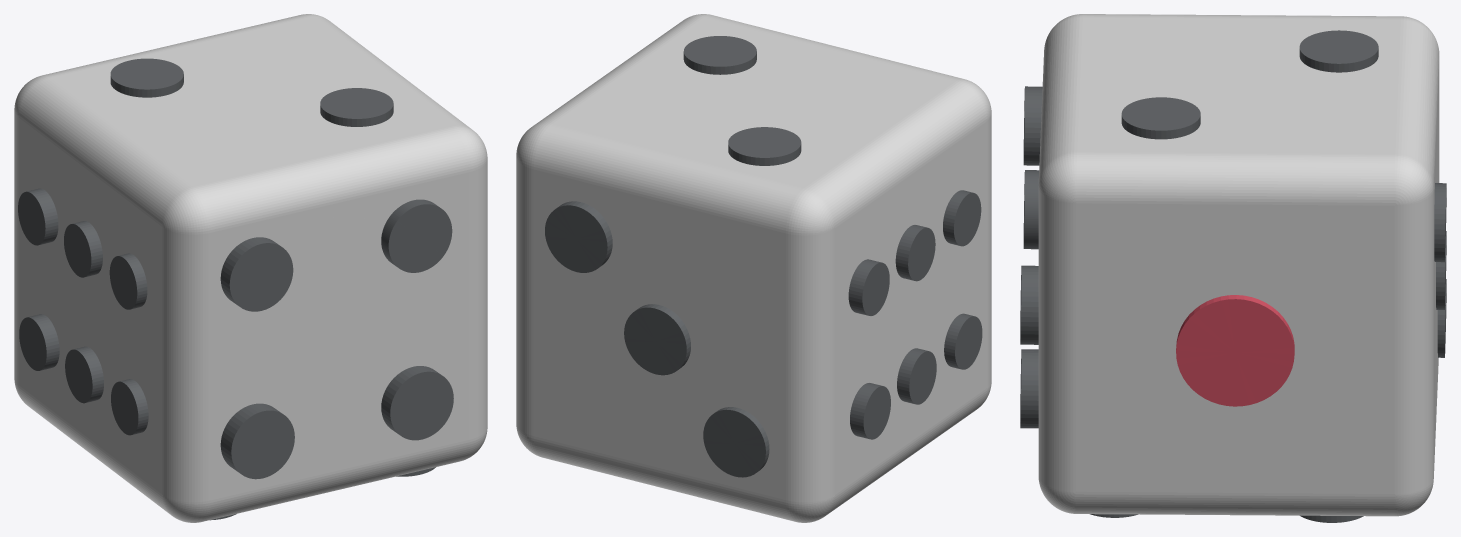
Rendered from dado.glb.
3 views of the same model, side by side, from view 1: azimuth 30°, elevation 25°; view 2: azimuth 150°, elevation 25°; view 3: azimuth 270°, elevation 25° (orthographic). The views are drawn at different scales.
Visible parts, largest first — view 1: Mesh_Mesh_head_geo.001_lambert2SG.001; view 2: Mesh_Mesh_head_geo.001_lambert2SG.001; view 3: Mesh_Mesh_head_geo.001_lambert2SG.001.
Part boxes in pixels (x1,y1,x2,y2): Mesh_Mesh_head_geo.001_lambert2SG.001: (14, 14, 487, 522); Mesh_Mesh_head_geo.001_lambert2SG.001: (516, 14, 991, 522); Mesh_Mesh_head_geo.001_lambert2SG.001: (1020, 14, 1446, 522).
Size of the model in its own units: 0.0213 by 0.0211 by 0.0216.
